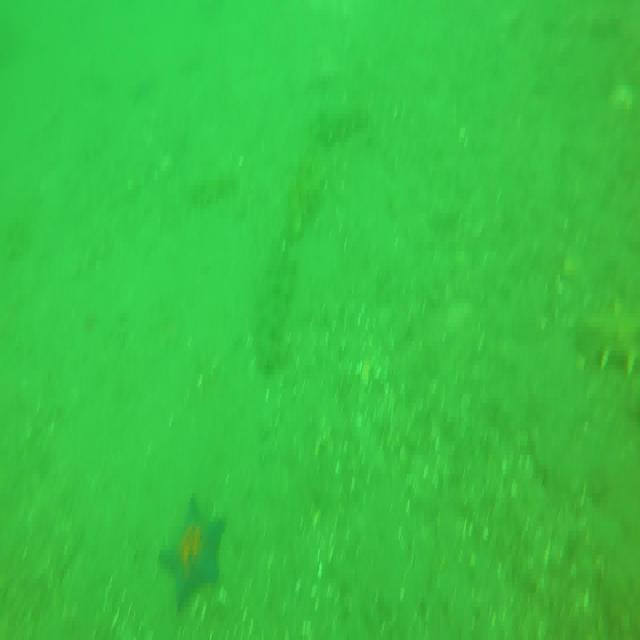holothurian: (255, 238, 294, 374), (578, 308, 640, 370), (292, 144, 326, 244), (190, 155, 238, 206), (314, 107, 370, 148)
starfish: (157, 497, 221, 609)
